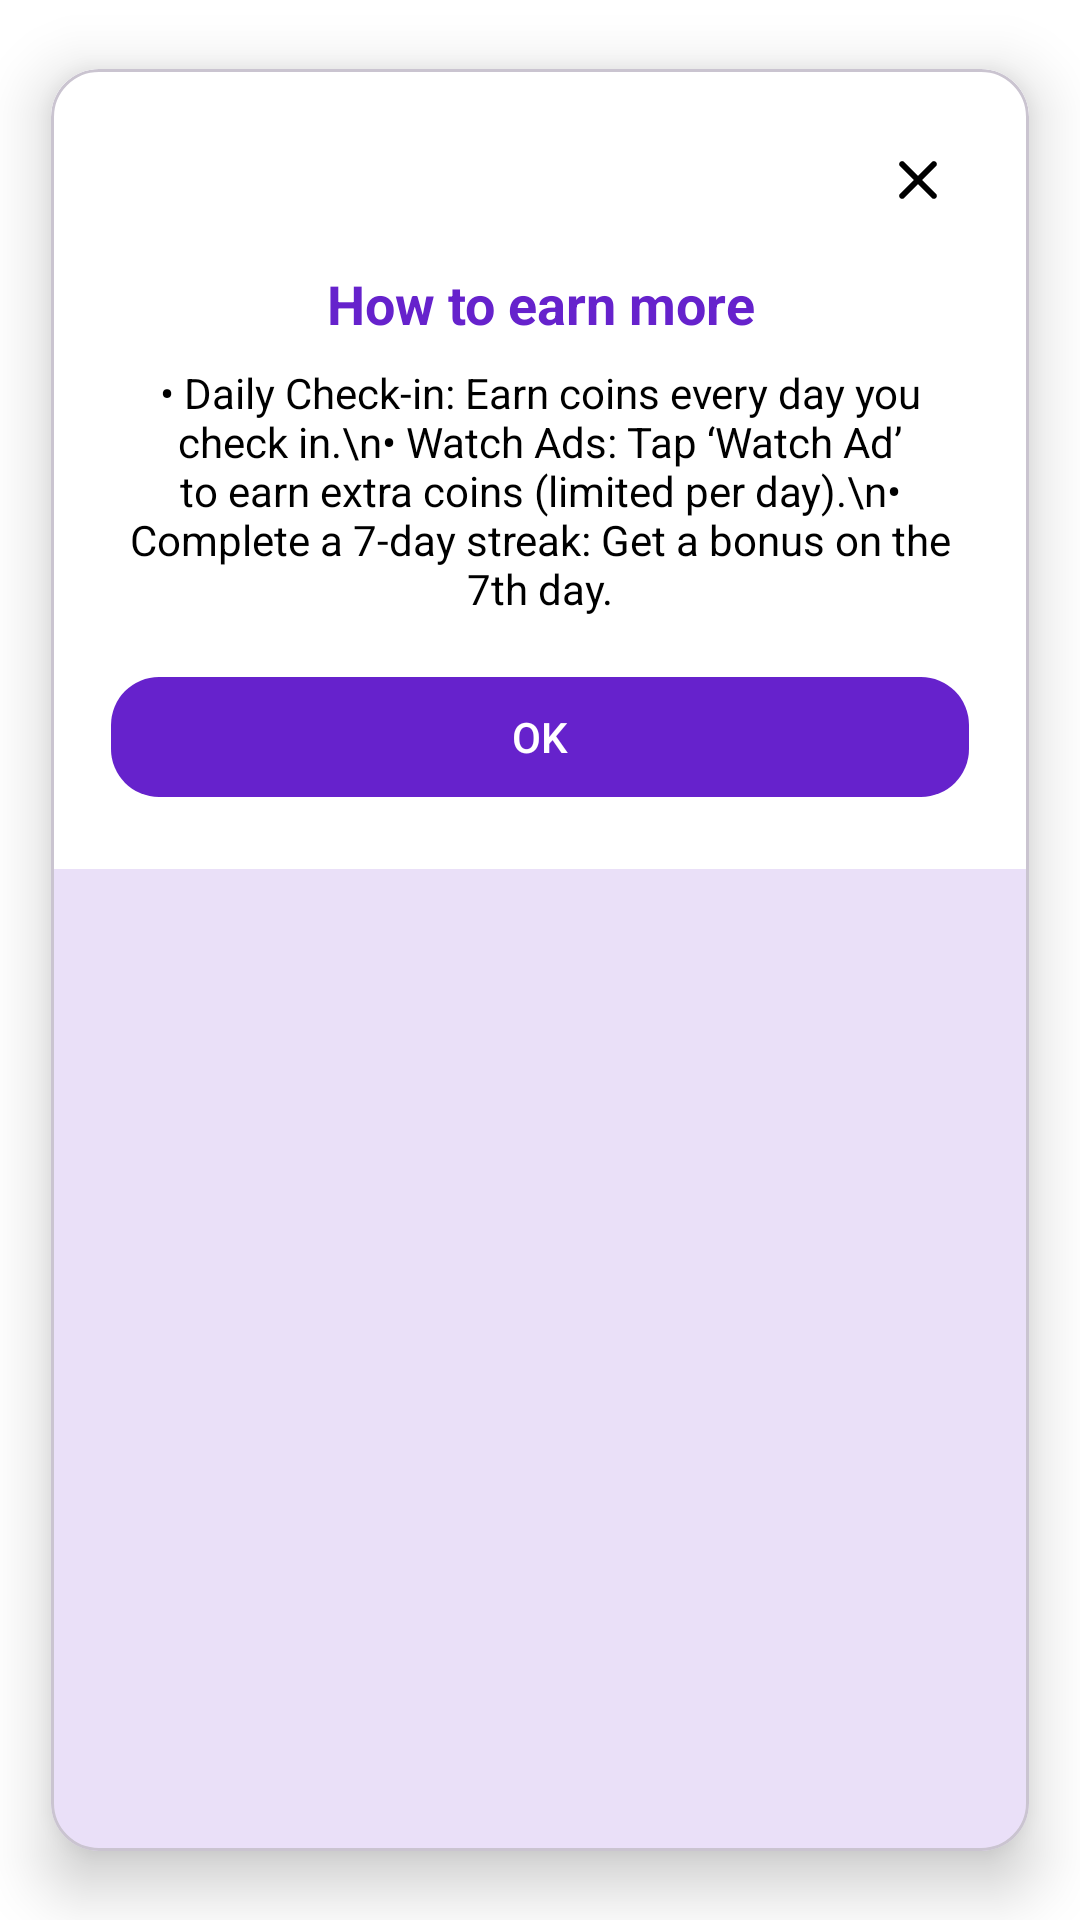

Named icons in this screenshot (1080x1920) and their centers, (x=x, y=y):
close: (x=918, y=180)
